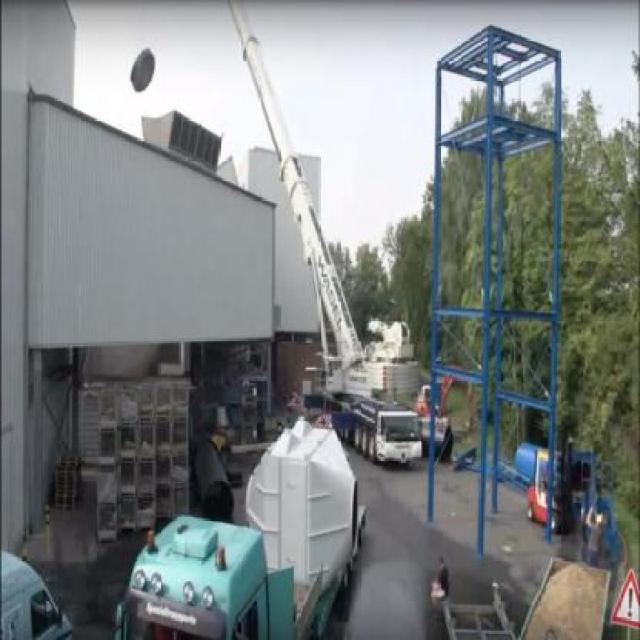Mobile Crane: (226, 0, 422, 469)
